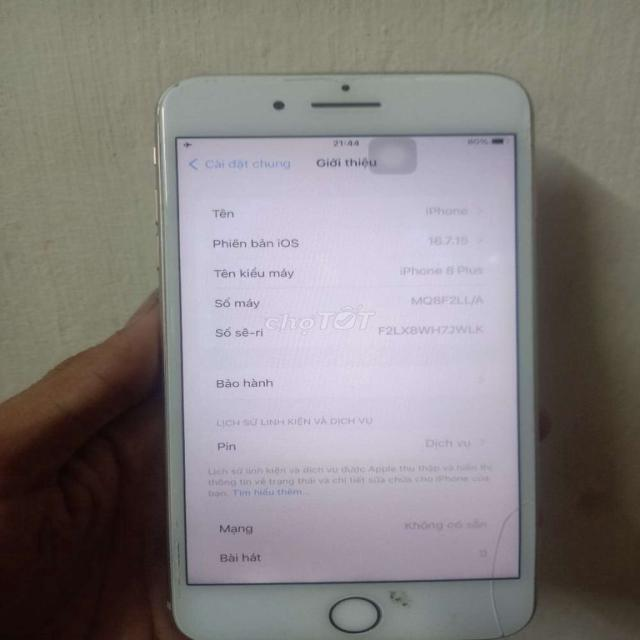physical_damage: (490, 492, 545, 635)
scratch: (260, 73, 481, 85), (168, 512, 188, 606), (384, 589, 419, 612), (202, 74, 223, 82), (165, 79, 184, 87)
